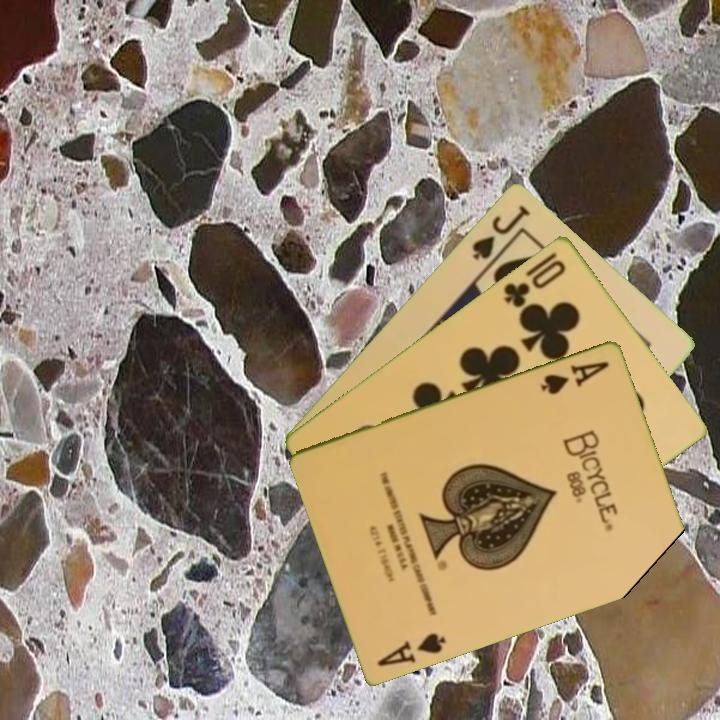10c: (500, 255, 569, 310)
As: (374, 628, 450, 669), (537, 357, 612, 397)
Js: (468, 201, 533, 263)
